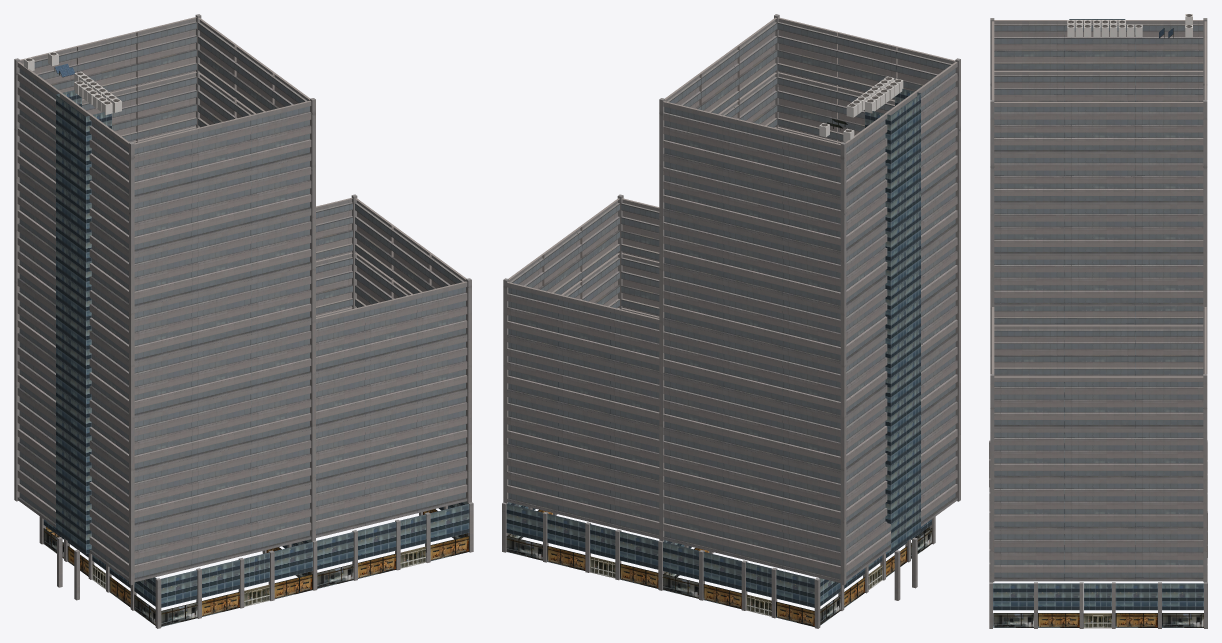
Rendered from beautiful_04.gltf.
The picture shows the model from 3 angles, left to right: view 1: azimuth 30°, elevation 25°; view 2: azimuth 150°, elevation 25°; view 3: azimuth 270°, elevation 25°; orthographic projection. The views are drawn at different scales.
Parts seen in each view (by area): view 1: beautiful_04; view 2: beautiful_04; view 3: beautiful_04.
Part boxes in pixels (<box>): beautiful_04: <box>14,14,473,628</box>; beautiful_04: <box>502,14,960,628</box>; beautiful_04: <box>989,14,1207,628</box>.
Size of the model in its own units: 43.28 by 58.93 by 25.36.
2 materials, 2 textured.
